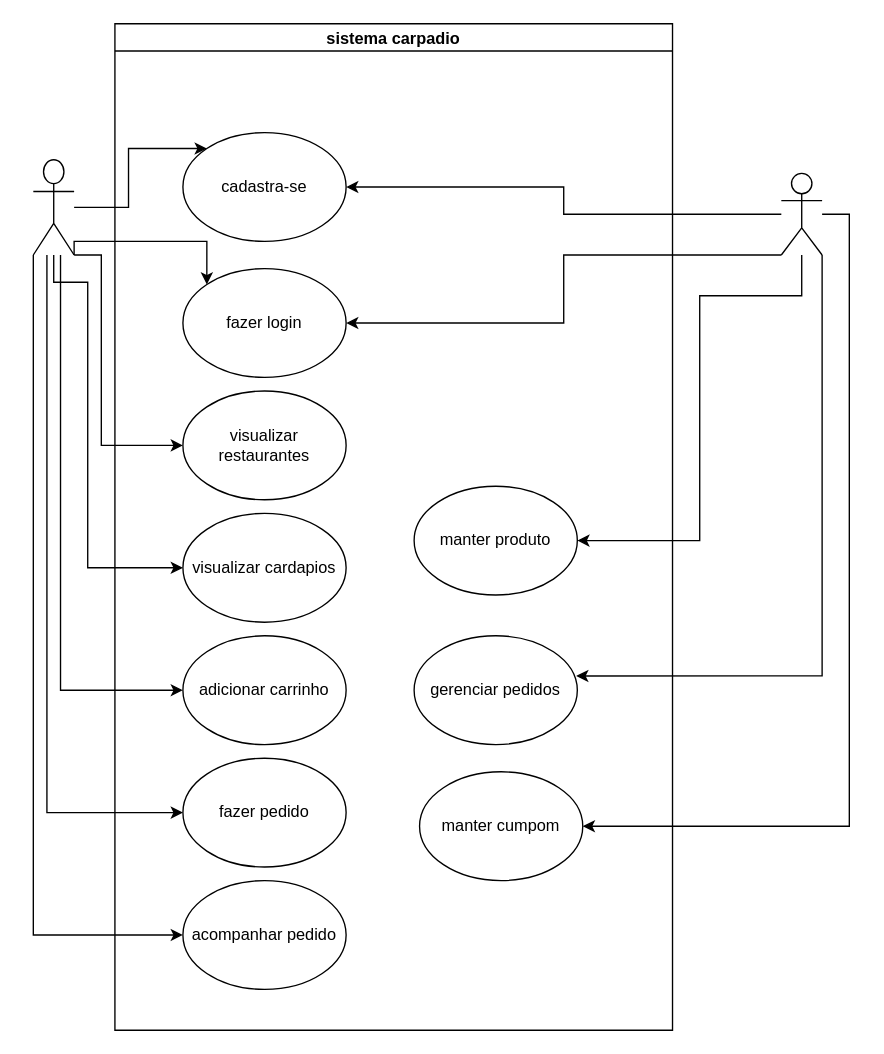
The diagram is 884 pixels wide and 1054 high, and some of its shapes have lost their labels. The shapes that lost their labels are listed below. From the top down, each one's centre as x and y in pixels, then its label:
the point at 53,206: cliente
the point at 801,213: restaurante
